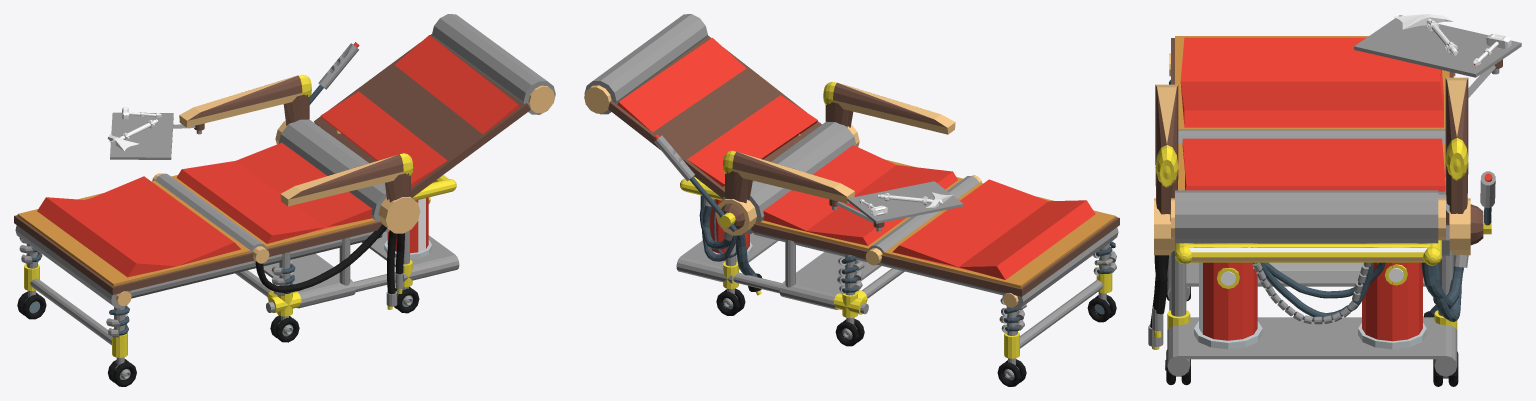
The model's file is dentist_chair.glb.
3 views of the same model, side by side, from view 1: azimuth 30°, elevation 25°; view 2: azimuth 150°, elevation 25°; view 3: azimuth 270°, elevation 25° (orthographic). The views are drawn at different scales.
Visible parts, largest first — view 1: group1208156420, group1804548570, group731876622, group1418563078, group1547835463, group1830342262, group1986575029, group298892421, group949606617; view 2: group1208156420, group1804548570, group731876622, group1418563078, group1547835463, group949606617, group1986575029, group1830342262, group298892421; view 3: group1208156420, group1804548570, group1986575029, group1418563078, group731876622, group298892421, group949606617, group1547835463, group1830342262, group1936071044.
Boxes of the visible parts, x1=… form: group1208156420: x1=37, y1=35, x2=519, y2=277; group1804548570: x1=15, y1=14, x2=555, y2=379; group731876622: x1=14, y1=34, x2=530, y2=294; group1418563078: x1=116, y1=76, x2=554, y2=305; group1547835463: x1=17, y1=175, x2=375, y2=286; group1830342262: x1=17, y1=224, x2=419, y2=386; group1986575029: x1=24, y1=74, x2=456, y2=357; group298892421: x1=107, y1=107, x2=425, y2=252; group949606617: x1=26, y1=85, x2=323, y2=335; group1208156420: x1=617, y1=38, x2=1095, y2=279; group1804548570: x1=584, y1=14, x2=1118, y2=378; group731876622: x1=608, y1=35, x2=1119, y2=296; group1418563078: x1=584, y1=83, x2=1018, y2=307; group1547835463: x1=755, y1=159, x2=1116, y2=287; group949606617: x1=689, y1=176, x2=1115, y2=331; group1986575029: x1=680, y1=82, x2=1112, y2=358; group1830342262: x1=716, y1=273, x2=1116, y2=386; group298892421: x1=859, y1=192, x2=953, y2=215; group1208156420: x1=1180, y1=37, x2=1492, y2=341; group1804548570: x1=1148, y1=15, x2=1521, y2=376; group1986575029: x1=1152, y1=138, x2=1491, y2=349; group1418563078: x1=1154, y1=53, x2=1470, y2=260; group731876622: x1=1155, y1=38, x2=1502, y2=245; group298892421: x1=1189, y1=14, x2=1511, y2=334; group949606617: x1=1169, y1=80, x2=1491, y2=321; group1547835463: x1=1175, y1=36, x2=1449, y2=191; group1830342262: x1=1150, y1=255, x2=1458, y2=386; group1936071044: x1=1194, y1=39, x2=1511, y2=349.
Bounding box in the file's own units: 2.28 × 1 × 1.15.
